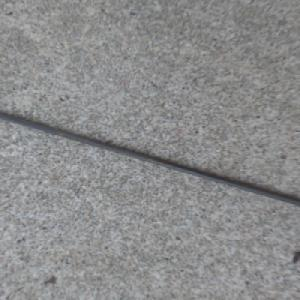LuggagePart: (0, 110, 300, 206)
